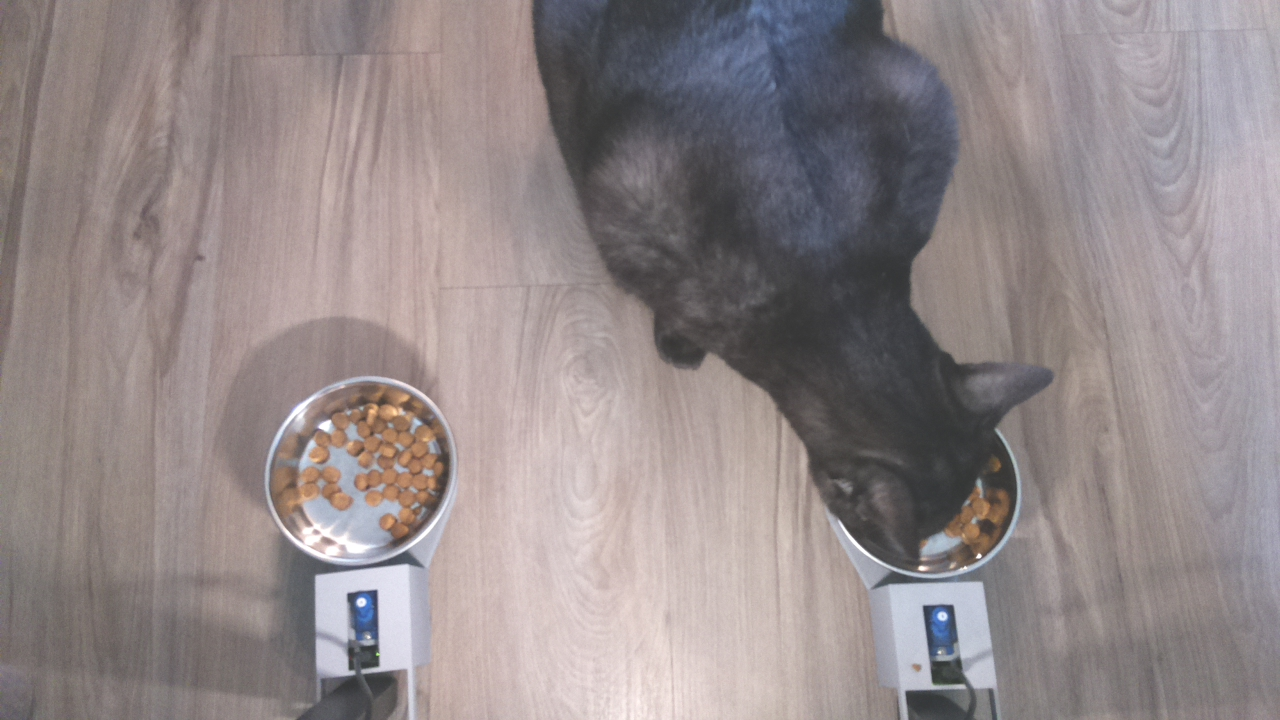open_bowl: (259, 368, 459, 570)
saki_eating: (798, 263, 1064, 589)
